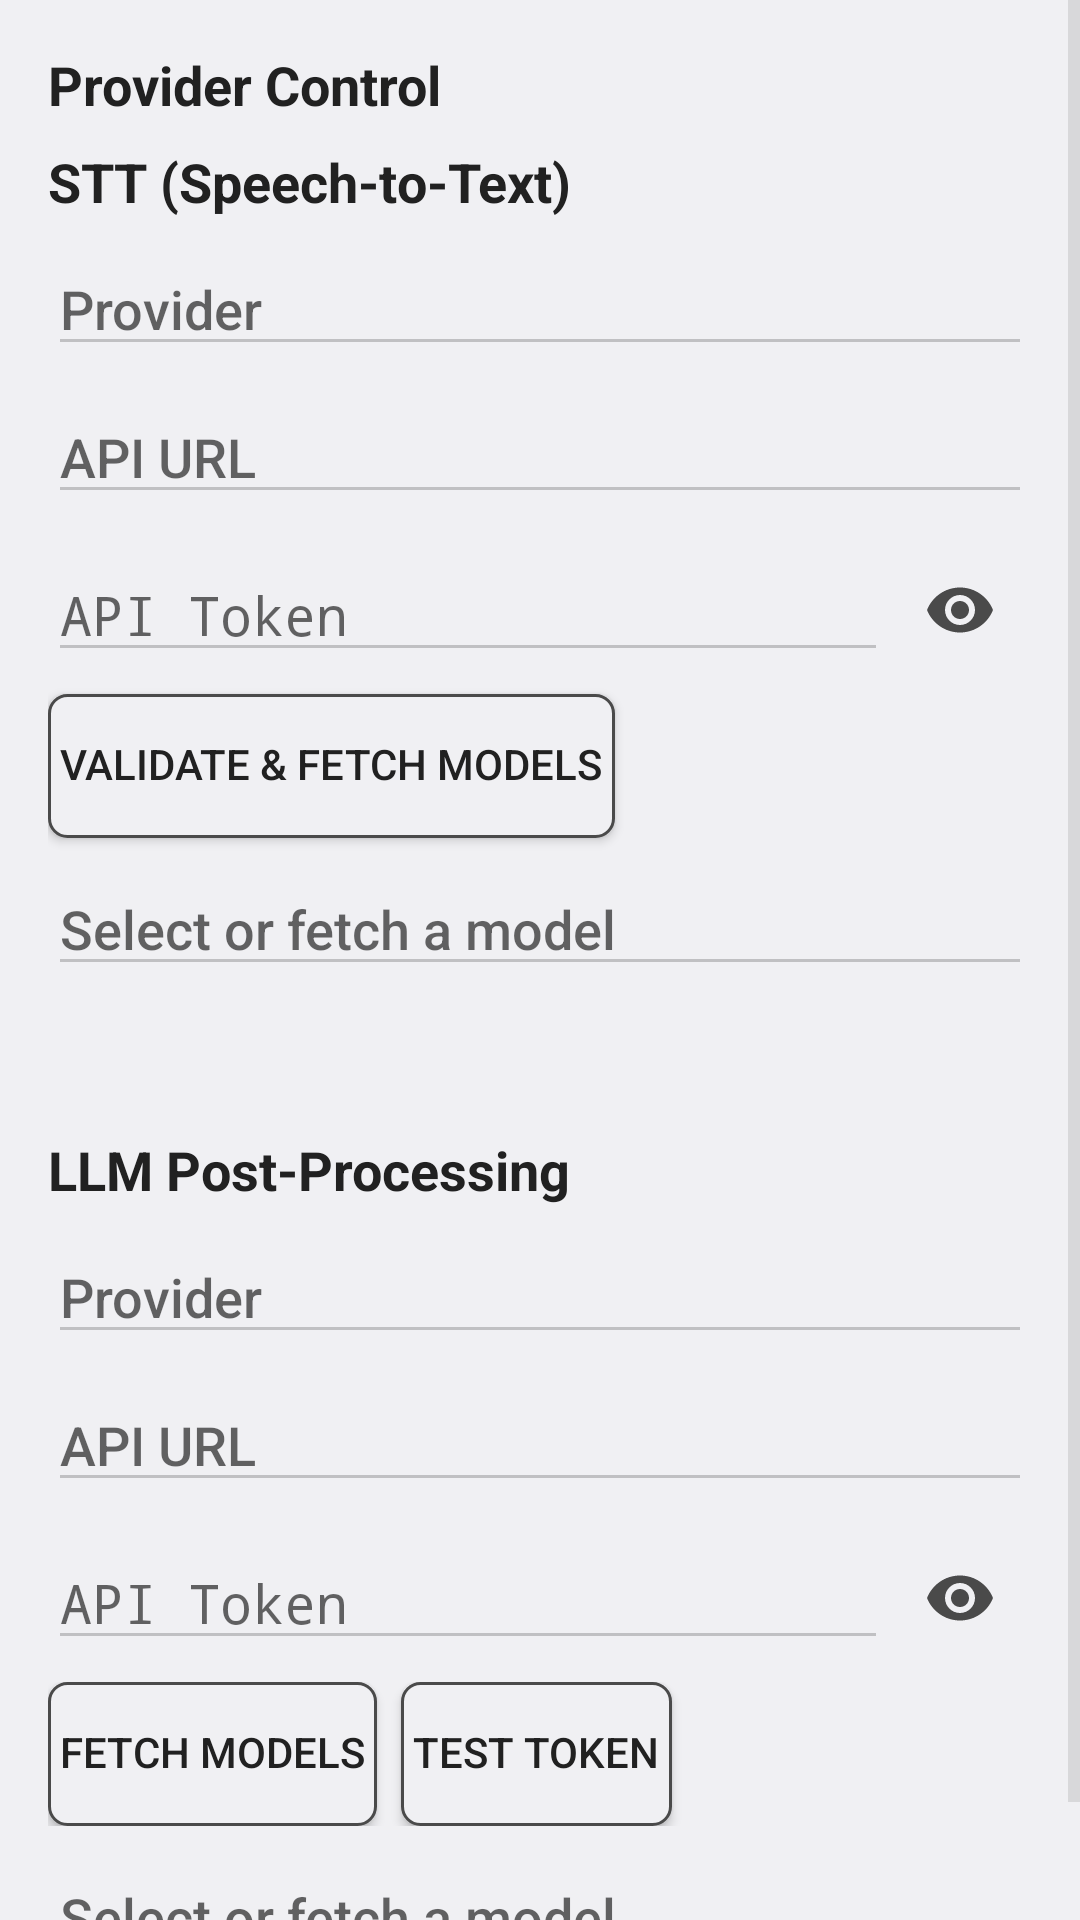

Screen size 1080 x 1920. Icon name, then its center in pixels as (x=x, y=y):
Show password: (x=960, y=610), (x=960, y=1598)
